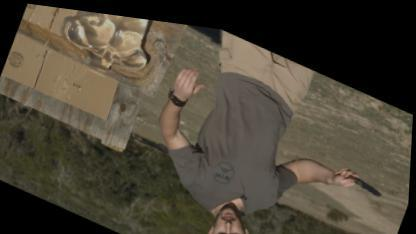knife: (334, 152, 390, 192)
